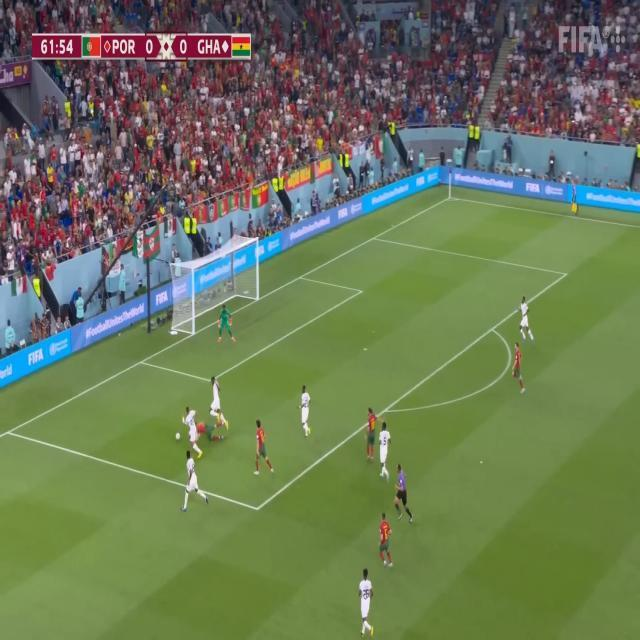football: (171, 427, 188, 451)
